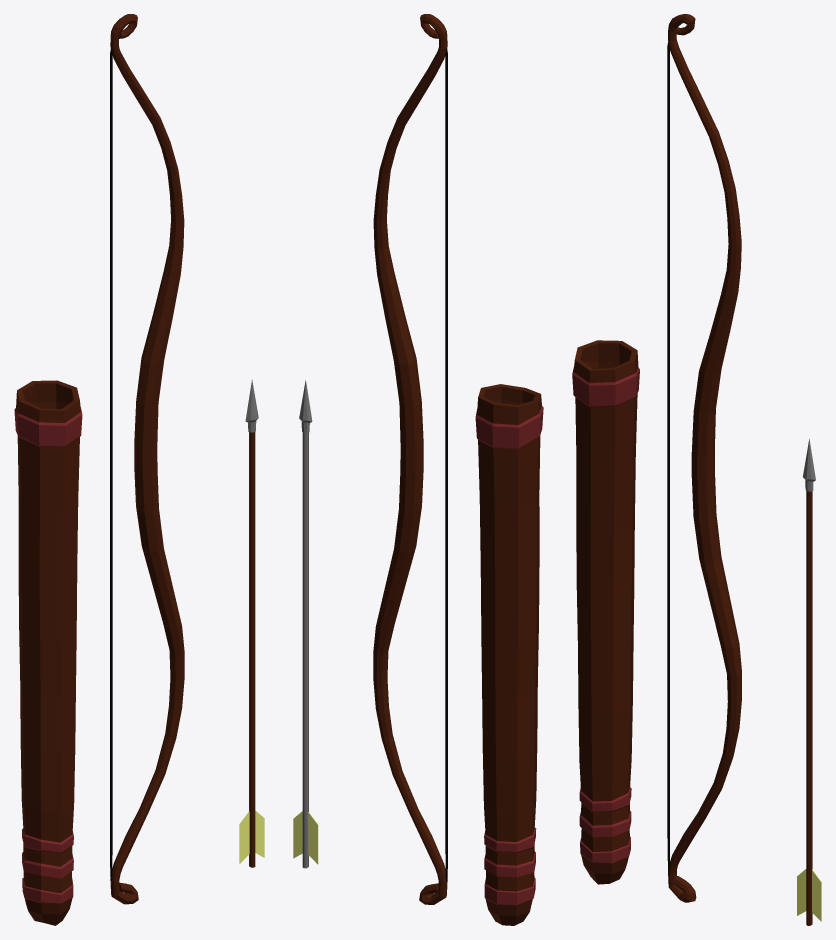
File: V_Medieval04_Arco.fbx
3 renders of one model, left to right at view 1: azimuth 30°, elevation 25°; view 2: azimuth 150°, elevation 25°; view 3: azimuth 330°, elevation 25°, orthographic.
Parts seen in each view (by area): view 1: Aljava, Arco, Flecha; view 2: Aljava, Arco, Flecha; view 3: Aljava, Arco, Flecha.
Boxes of the visible parts, left/top/right/bottom form: Aljava: left=14, top=380, right=82, bottom=925; Arco: left=110, top=14, right=184, bottom=904; Flecha: left=239, top=379, right=264, bottom=867; Aljava: left=475, top=384, right=543, bottom=925; Arco: left=373, top=14, right=447, bottom=904; Flecha: left=293, top=380, right=318, bottom=868; Aljava: left=572, top=340, right=639, bottom=884; Arco: left=667, top=14, right=741, bottom=902; Flecha: left=797, top=439, right=821, bottom=925.
Size of the model in its own units: 143 by 491 by 34.56.
